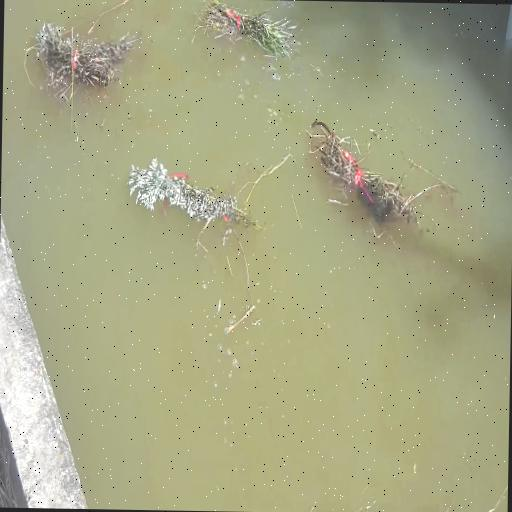twig: (306, 106, 446, 228), (121, 150, 272, 234), (199, 6, 296, 68), (37, 38, 137, 94)
